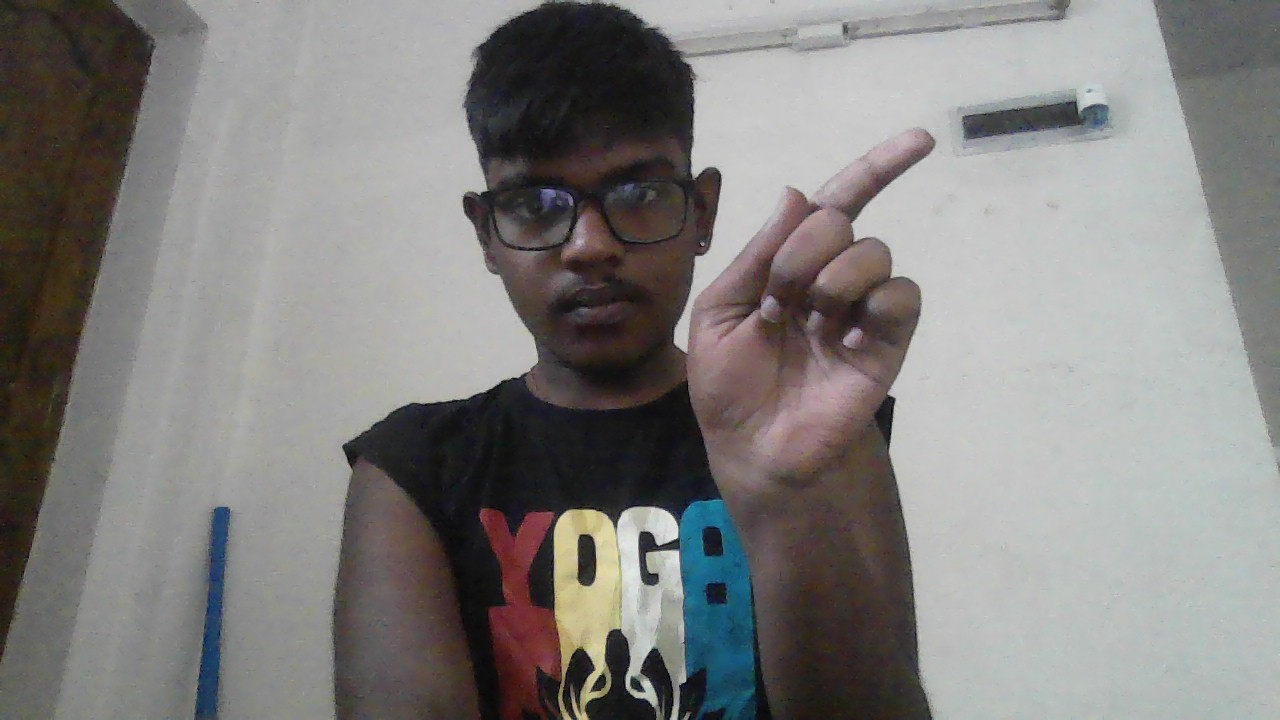G: (688, 127, 937, 498)
